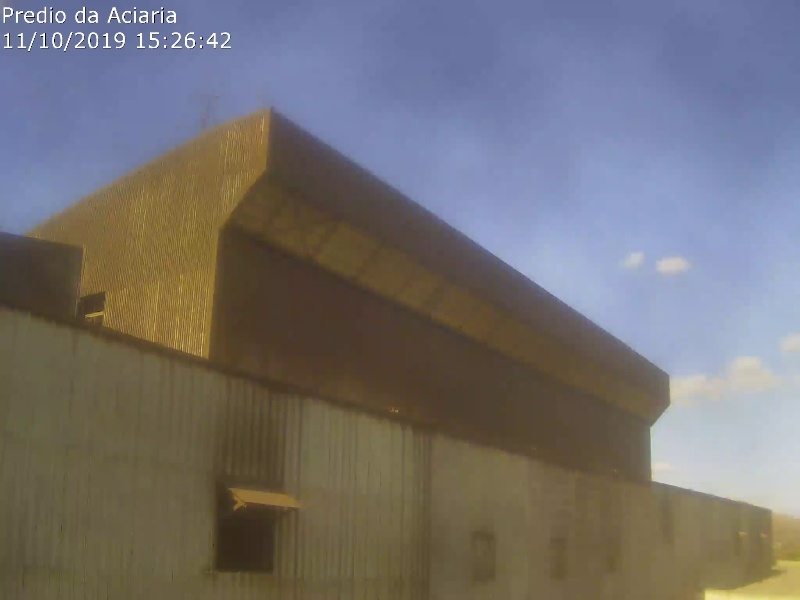bom: (315, 1, 696, 391), (659, 1, 793, 499), (3, 2, 312, 164)
